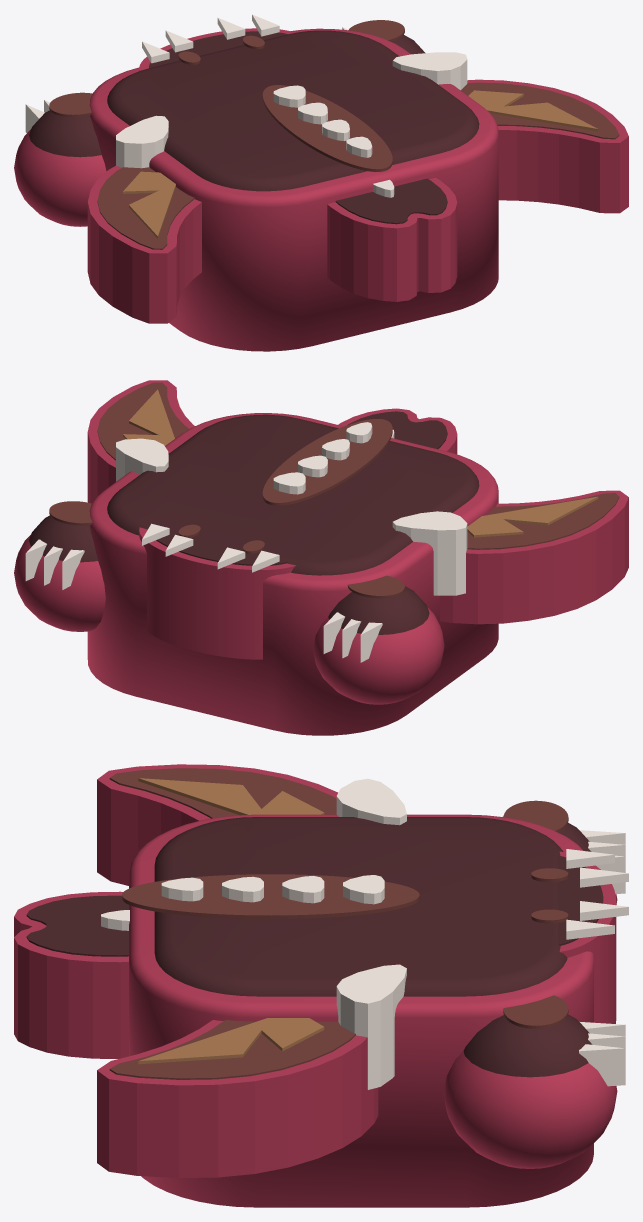
Rendered from body_dragao_lava.fbx.
3 views of the same model, one above another, from view 1: azimuth 30°, elevation 25°; view 2: azimuth 150°, elevation 25°; view 3: azimuth 270°, elevation 25° (orthographic). The views are drawn at different scales.
Parts seen in each view (by area): view 1: body_dragao_lava_corpo, body_dragao_lava_mao_esq, body_dragao_lava_mao; view 2: body_dragao_lava_corpo, body_dragao_lava_mao_esq, body_dragao_lava_mao; view 3: body_dragao_lava_corpo, body_dragao_lava_mao, body_dragao_lava_mao_esq.
Part boxes in pixels (x1=…): body_dragao_lava_corpo: x1=87, y1=14, x2=628, y2=351; body_dragao_lava_mao_esq: x1=14, y1=92, x2=106, y2=226; body_dragao_lava_mao: x1=342, y1=20, x2=425, y2=54; body_dragao_lava_corpo: x1=87, y1=380, x2=628, y2=735; body_dragao_lava_mao_esq: x1=313, y1=575, x2=444, y2=704; body_dragao_lava_mao: x1=14, y1=501, x2=105, y2=631; body_dragao_lava_corpo: x1=14, y1=764, x2=628, y2=1207; body_dragao_lava_mao: x1=443, y1=995, x2=625, y2=1168; body_dragao_lava_mao_esq: x1=503, y1=800, x2=625, y2=904.
Size of the model in its own units: 6.53 by 2.14 by 5.29.
1 material, 1 textured.
